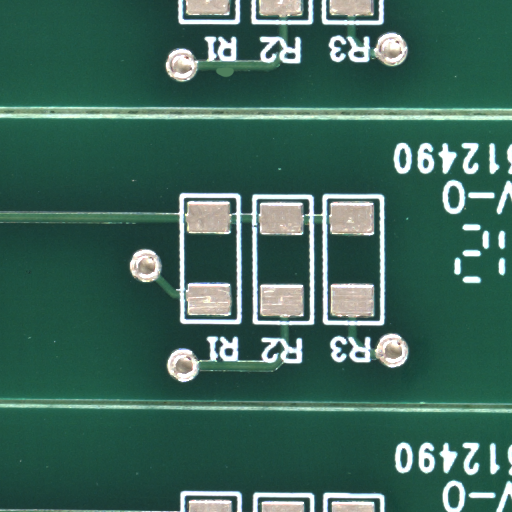Spur: (224, 73, 245, 83)
